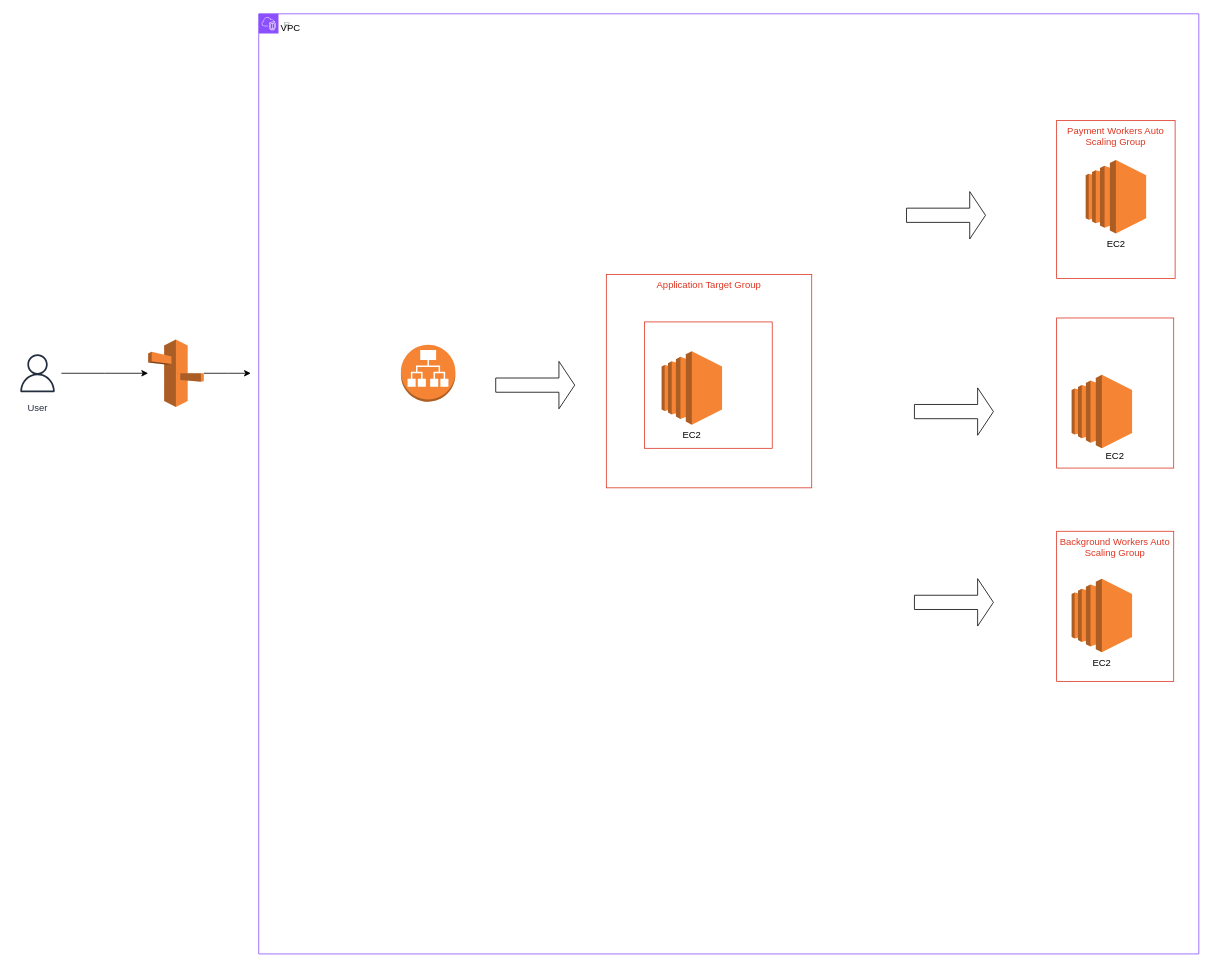
Some shapes in this 1213 by 968 pixel diagram are drawn without their labels. Each missing label, with the box of its shape:
ALB: (400, 344, 455, 402)
Application Auto Scaling Group: (644, 321, 772, 448)
Messaging Background Workers Auto Scaling Group: (1056, 317, 1174, 468)
Route53: (147, 339, 204, 407)
